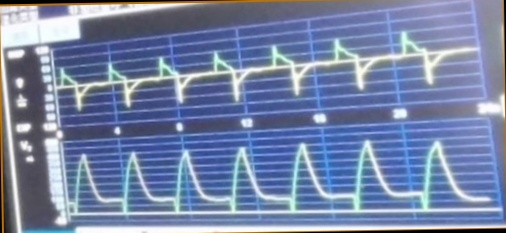Flow: (57, 32, 462, 107)
Leakage Volume: (69, 136, 488, 221)
